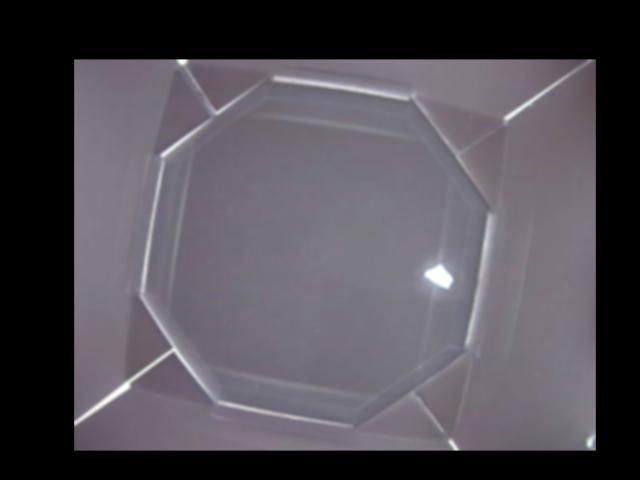China: (421, 263, 453, 290)
